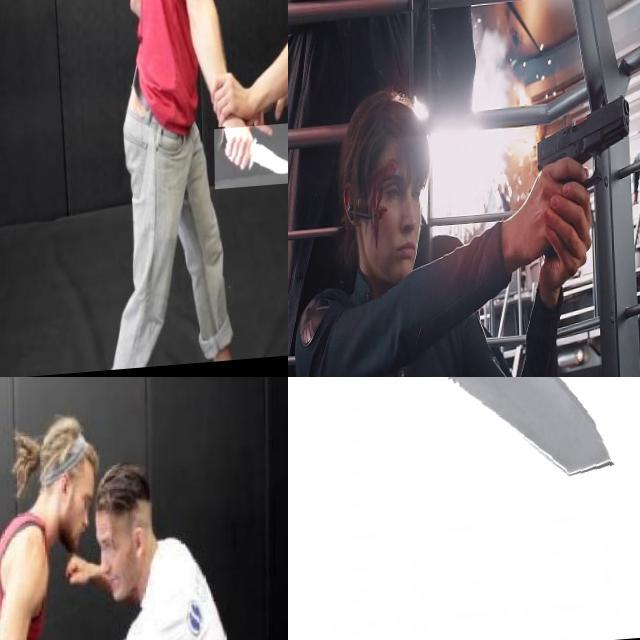-: (358, 377, 640, 521), (212, 127, 288, 193)
gun-knife-thesis - v11 Yolov5 augmented: (528, 98, 636, 272), (411, 0, 492, 70)
